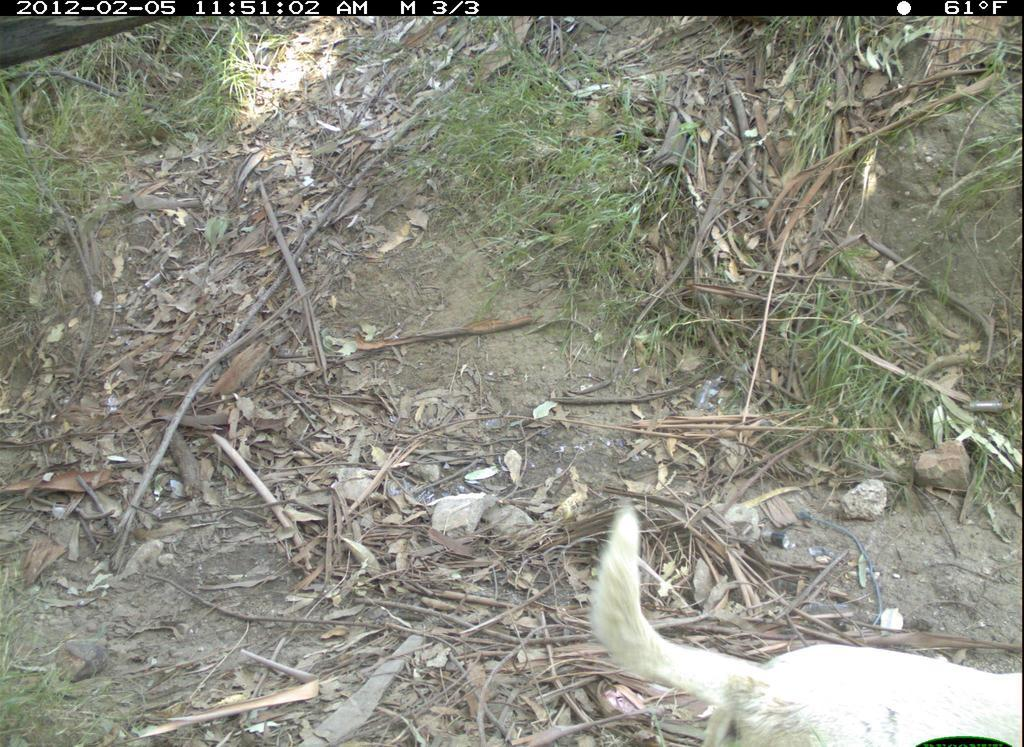dog: (583, 500, 1023, 747)
